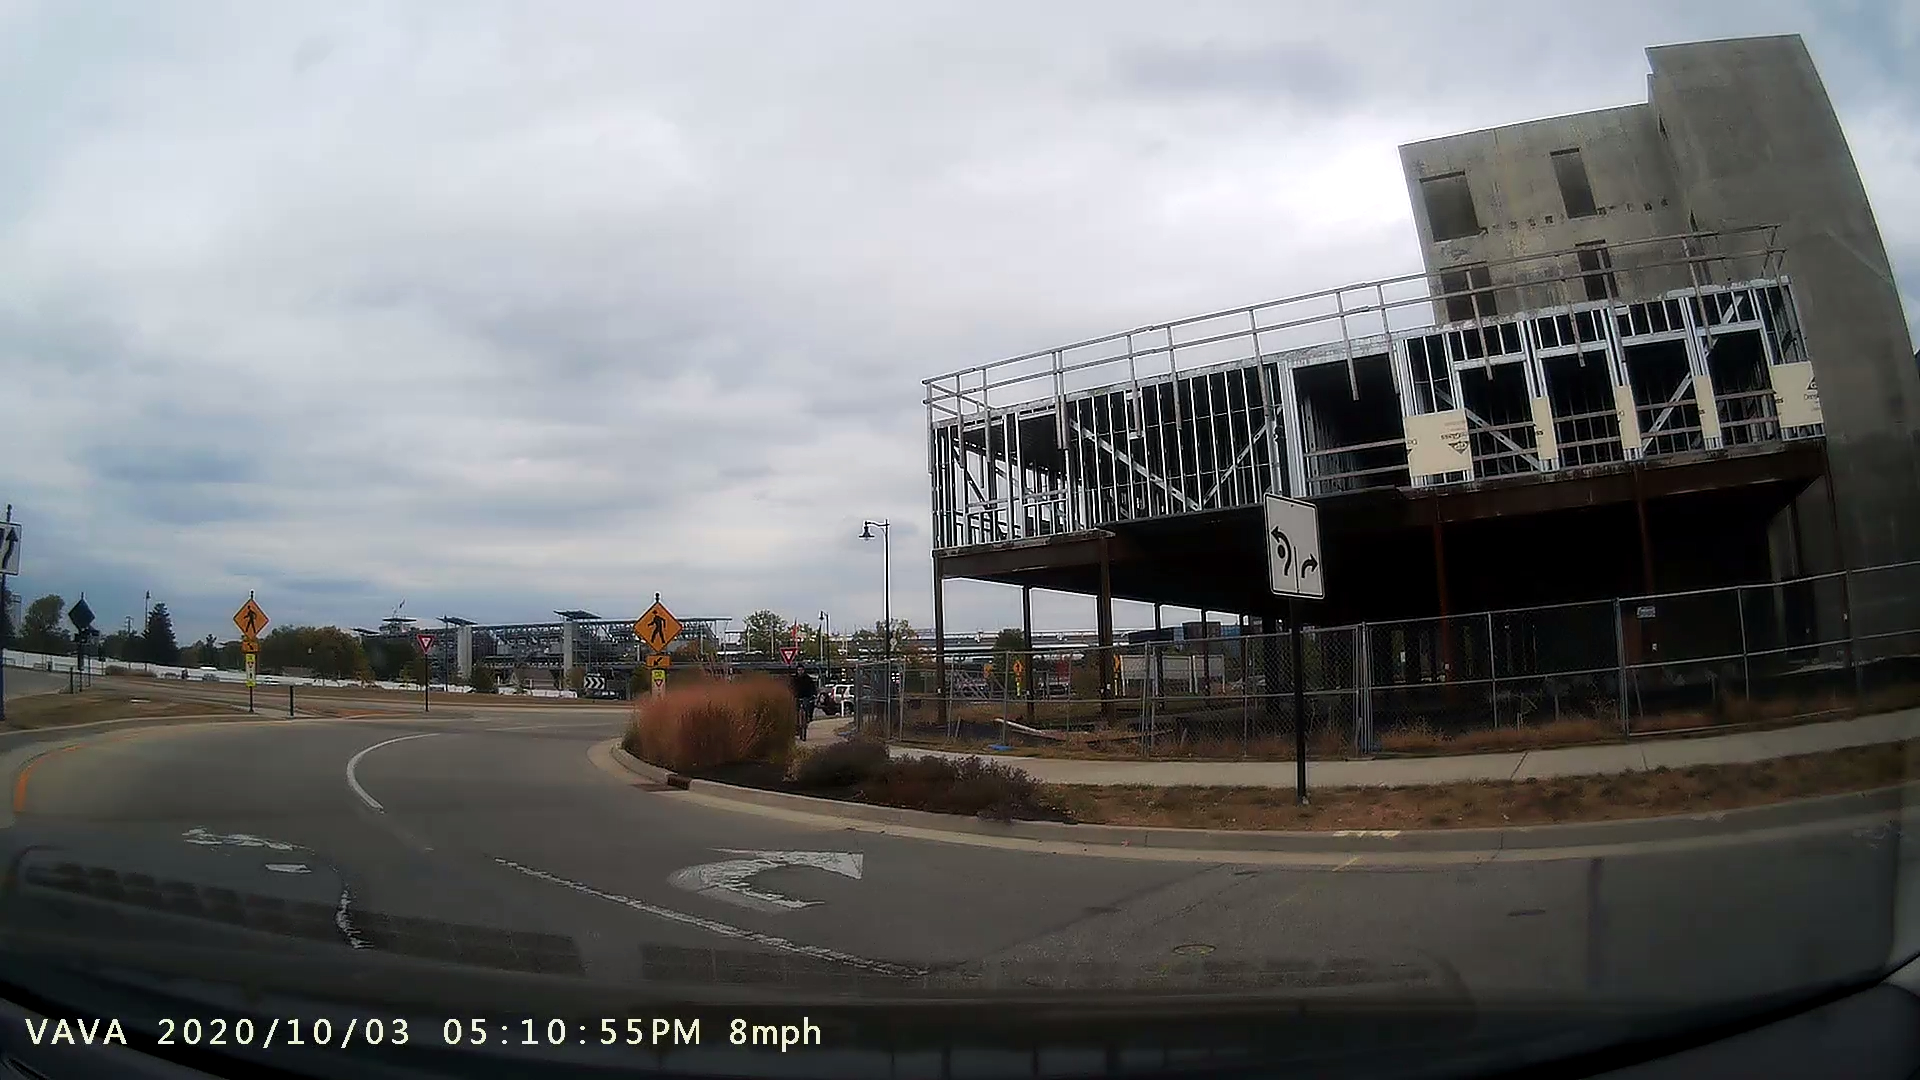right_turn: (662, 823, 884, 916)
